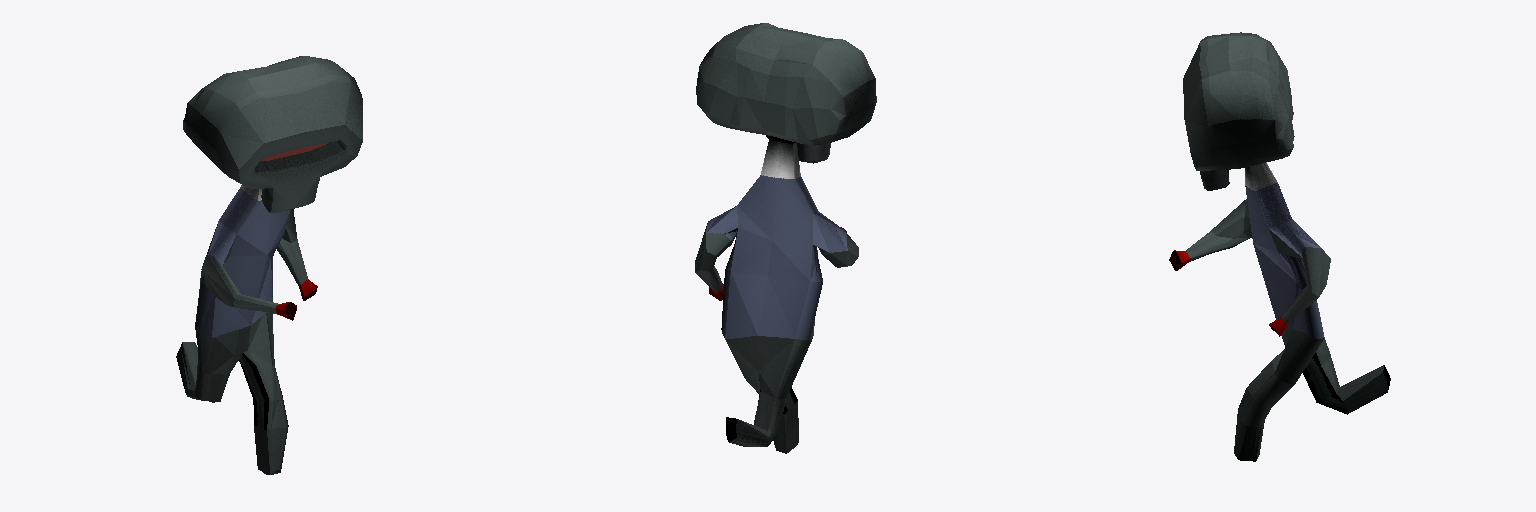
The picture shows the model from 3 angles: view 1: azimuth 30°, elevation 25°; view 2: azimuth 150°, elevation 25°; view 3: azimuth 270°, elevation 25°; orthographic projection.
Parts seen in each view (by area): view 1: Plane; view 2: Plane; view 3: Plane.
Part boxes in pixels (x1,y1,x2,y2): Plane: (176,56,362,474); Plane: (695,23,876,453); Plane: (1169,32,1390,461).
Size of the model in its own units: 3.44 by 8.64 by 4.26.
Materials: 6 (1 with a texture image).